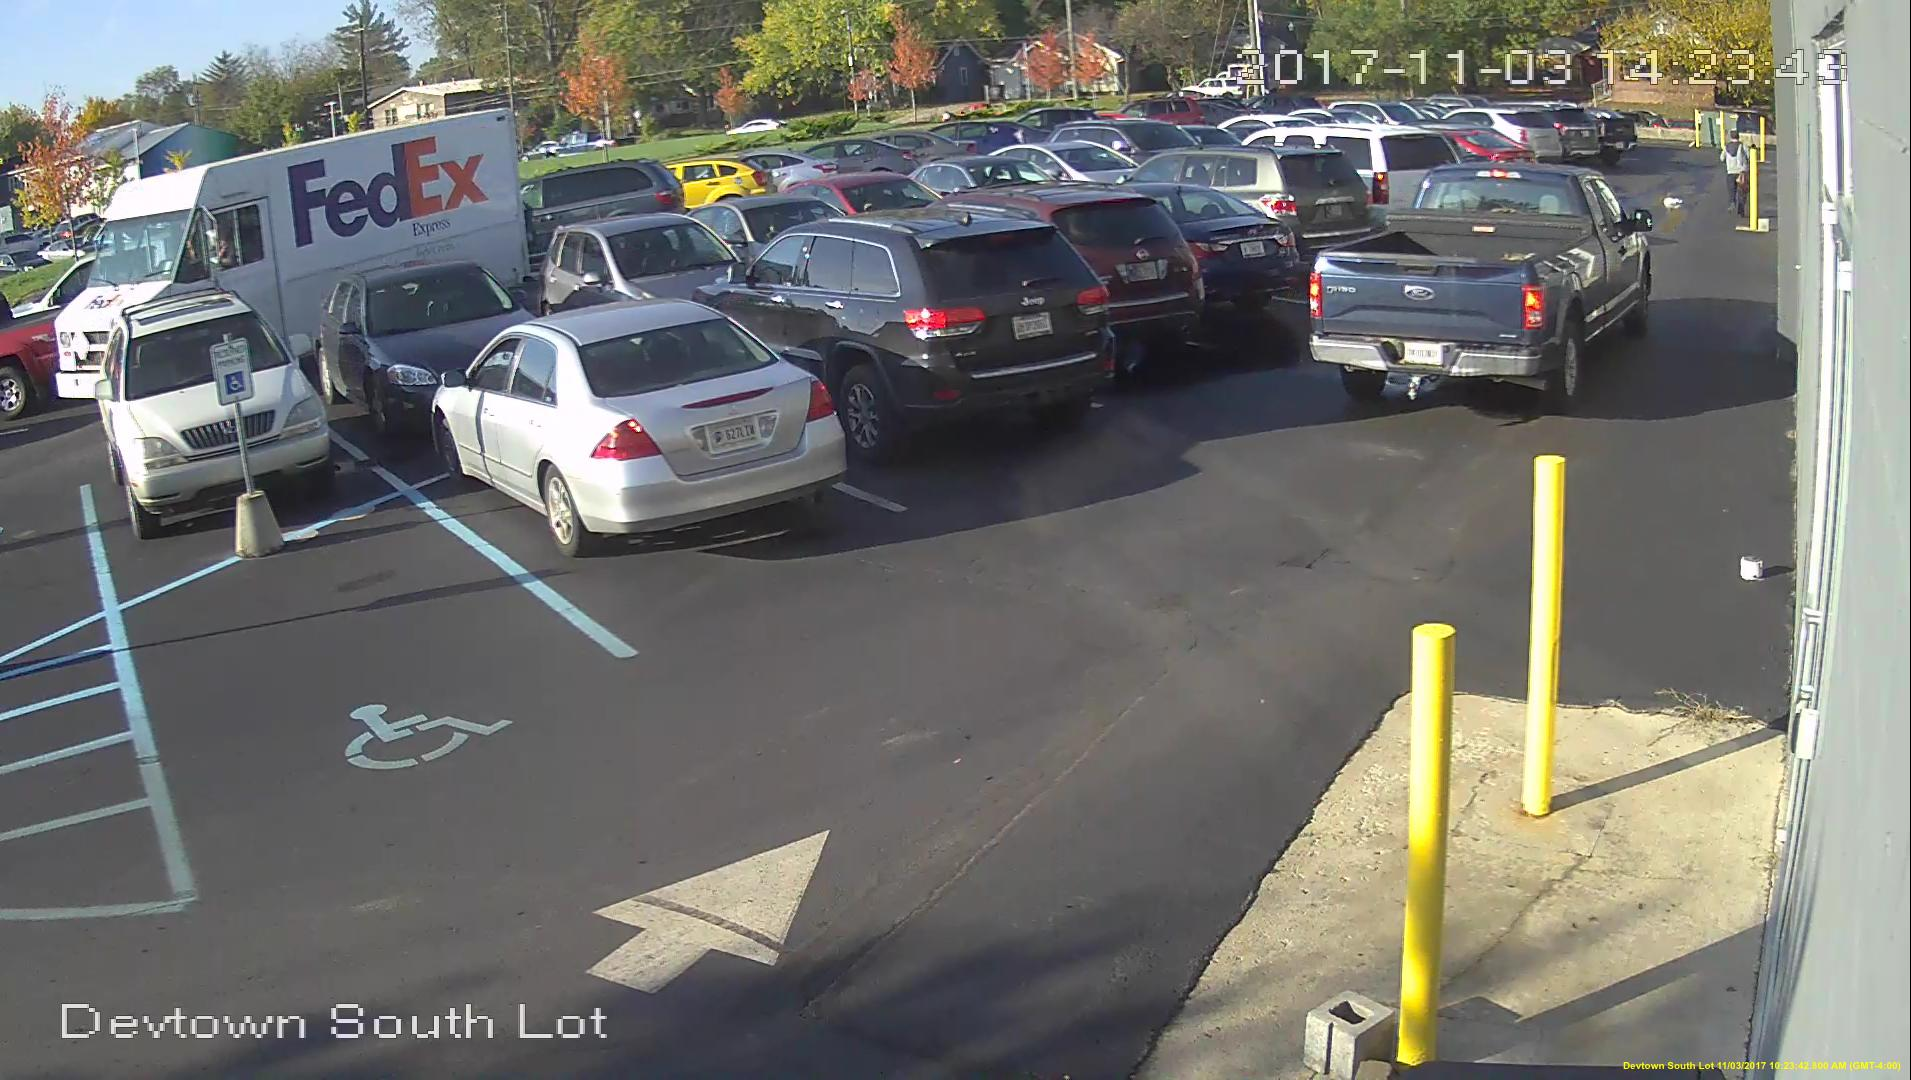fedex_truck: (47, 105, 524, 402)
